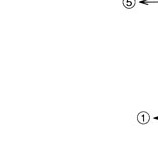enseble_chain: (138, 0, 158, 11), (122, 0, 135, 10)
